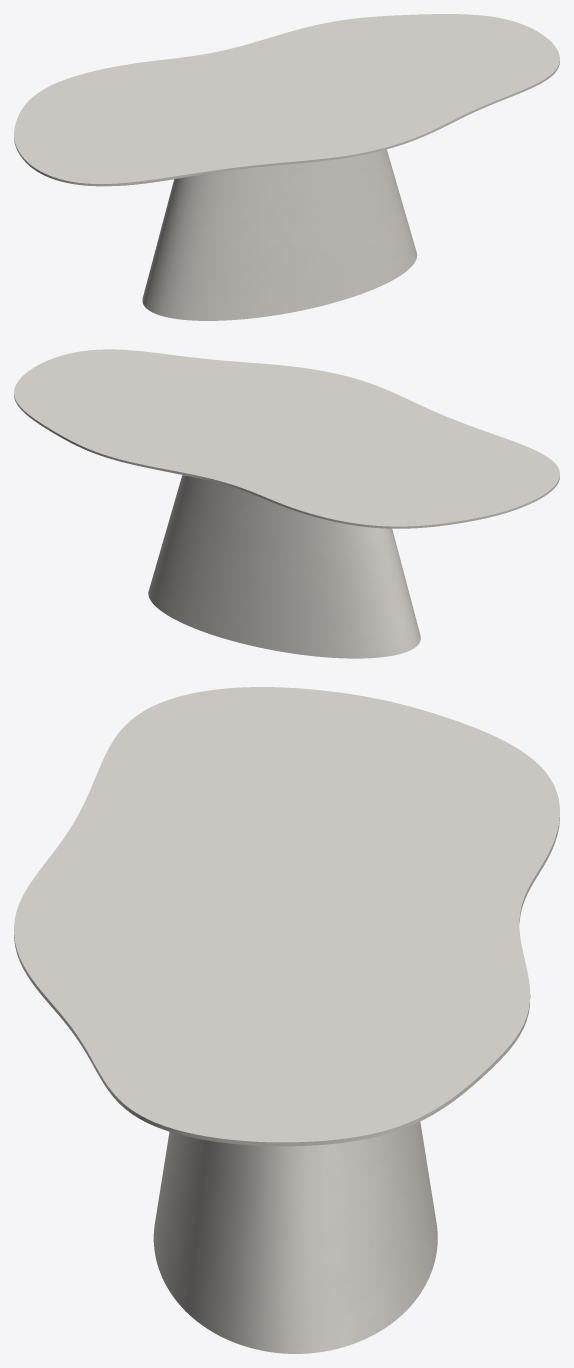
Rendered from pearlwhite_toplast_facet_eqone.glb.
3 renders of one model, top to bottom at view 1: azimuth 30°, elevation 25°; view 2: azimuth 150°, elevation 25°; view 3: azimuth 270°, elevation 25°, orthographic. The views are drawn at different scales.
Parts seen in each view (by area): view 1: facet_toplast, eqone; view 2: facet_toplast, eqone; view 3: facet_toplast, eqone.
Boxes of the visible parts, box(x1,y1,x2,y2) form: facet_toplast: box(14, 14, 559, 186); eqone: box(142, 149, 417, 320); facet_toplast: box(14, 349, 559, 528); eqone: box(148, 475, 420, 658); facet_toplast: box(14, 687, 559, 1146); eqone: box(153, 1121, 437, 1353).
Size of the model in its own units: 7.5 by 2.5 by 3.8.
1 material, 1 textured.
